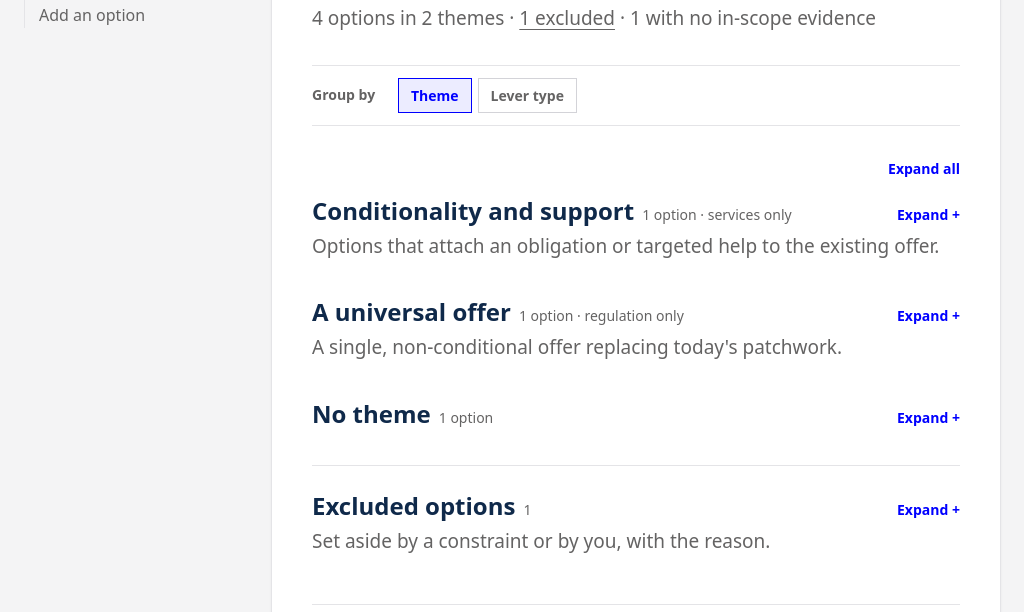
Scenario: LonglistView › gathers excluded options in one collapsed section at the end
What coordinates should you click on to do the following:
click the button "Expand all"
I would click on:
 (924, 168)
Its box is left=888, top=158, right=960, bottom=178.
(page scrolled)
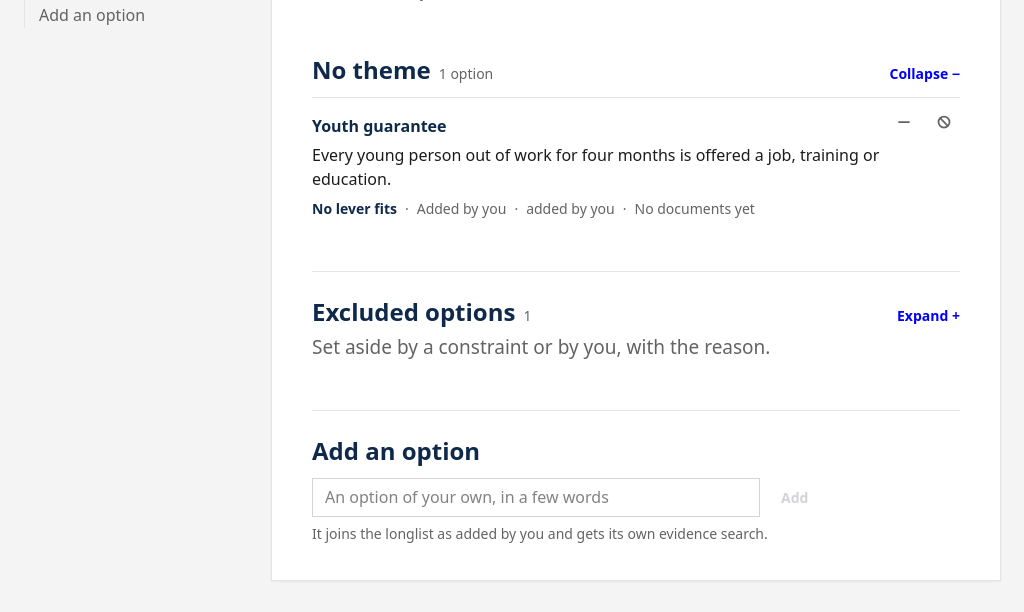
What coordinates should you click on to do the following:
click the button "Excluded options1 Expand +"
I would click on:
 (414, 312)
Its box is left=312, top=296, right=960, bottom=328.
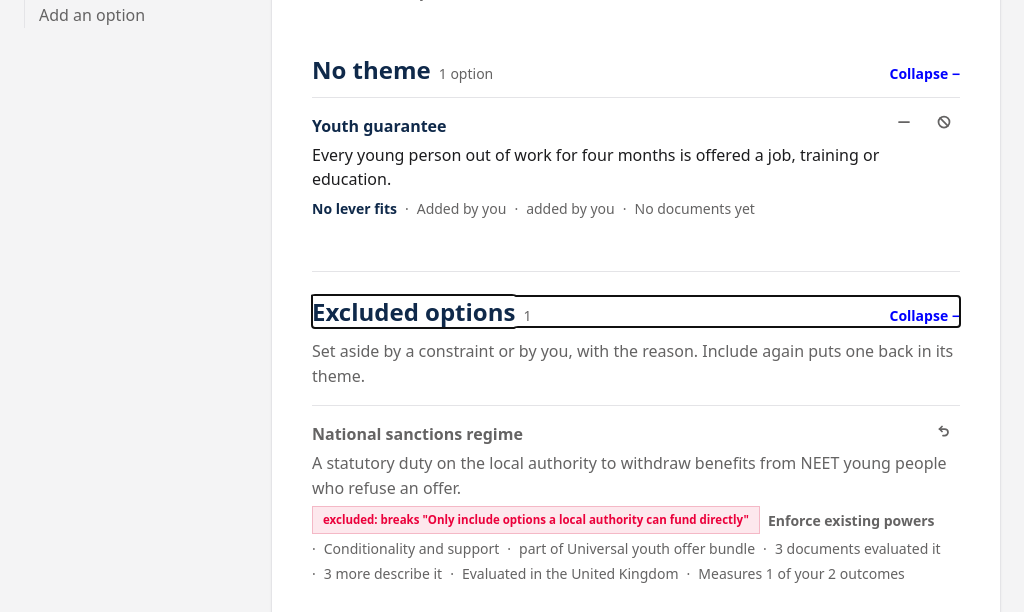
Expected: the link "National sanctions regime" is shown, left=312, top=422, right=523, bottom=447
